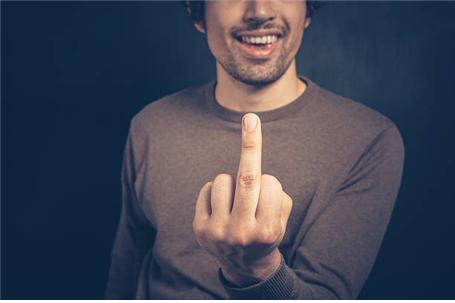insulting_gesture: (189, 110, 292, 278)
